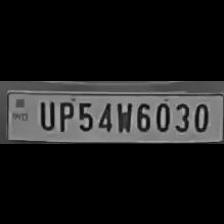0: (190, 100, 212, 132), (152, 98, 170, 132)
3: (172, 98, 190, 132)
4: (94, 98, 114, 132)
5: (74, 97, 94, 131)
6: (132, 98, 152, 132)
P: (55, 97, 73, 131)
U: (34, 96, 54, 130)
W: (114, 97, 132, 132)
